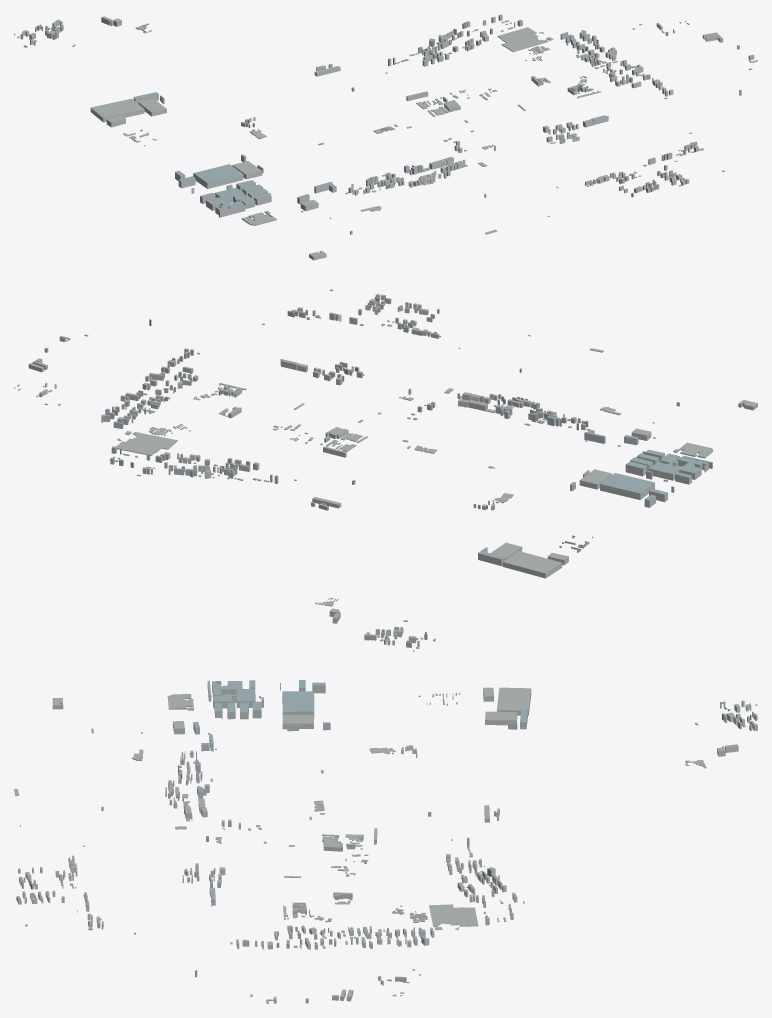
3 renders of one model, top to bottom at view 1: azimuth 30°, elevation 25°; view 2: azimuth 150°, elevation 25°; view 3: azimuth 270°, elevation 25°, orthographic. The views are drawn at different scales.
Parts seen in each view (by area): view 1: 上海全域建筑分块 · mapped building neighborhood; view 2: 上海全域建筑分块 · mapped building neighborhood; view 3: 上海全域建筑分块 · mapped building neighborhood.
Boxes of the visible parts, left/top/right/bottom form: 上海全域建筑分块 · mapped building neighborhood: left=14, top=14, right=757, bottom=260; 上海全域建筑分块 · mapped building neighborhood: left=14, top=289, right=757, bottom=651; 上海全域建筑分块 · mapped building neighborhood: left=14, top=680, right=757, bottom=1003.
Size of the model in its own units: 2119 by 25.29 by 2103.
